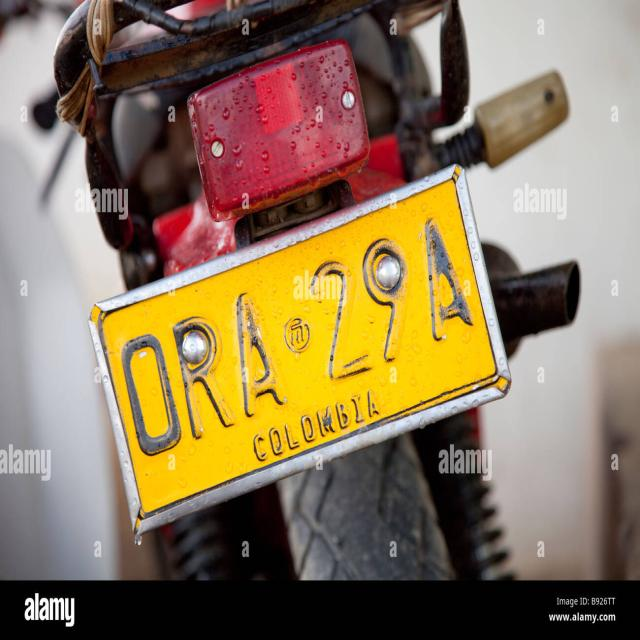placa_carro: (87, 165, 517, 536)
